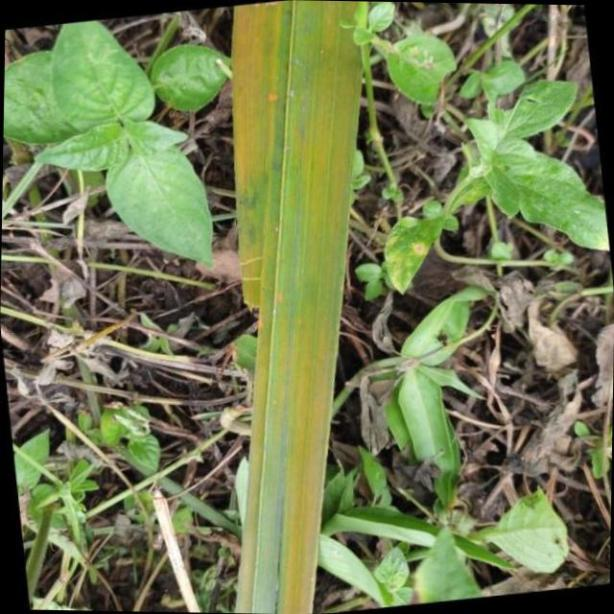Megnesium: (230, 0, 360, 614)
